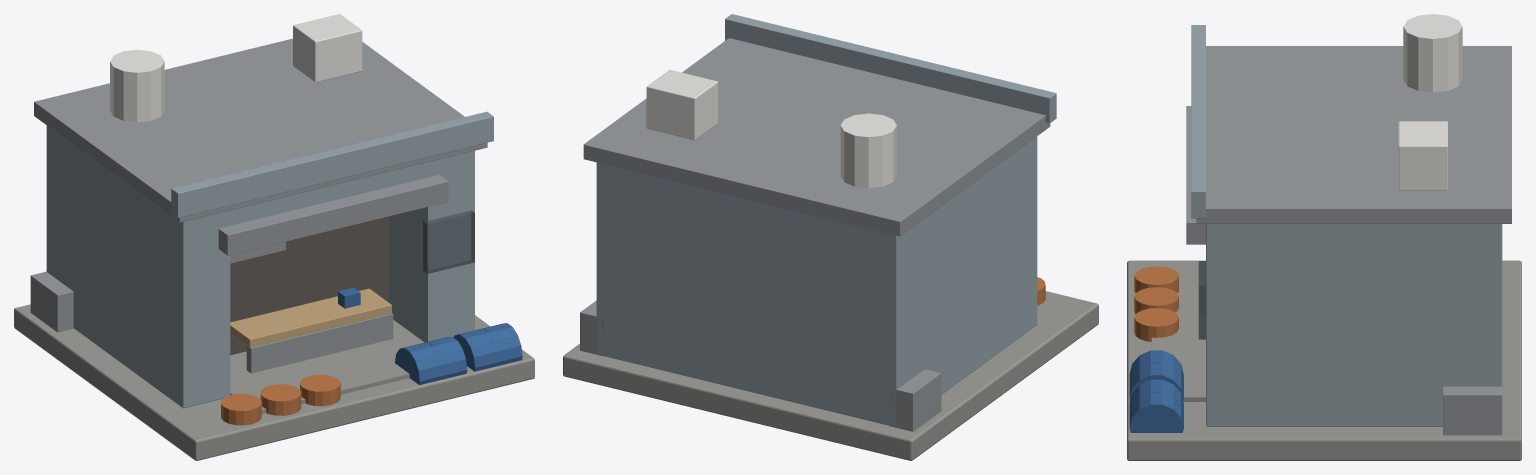
The model's file is bobinaj.glb.
3 renders of one model, left to right at view 1: azimuth 30°, elevation 25°; view 2: azimuth 150°, elevation 25°; view 3: azimuth 270°, elevation 25°, orthographic. The views are drawn at different scales.
Visible parts, largest first — view 1: P; view 2: P; view 3: P.
Part boxes in pixels (x1=…): P: x1=14, y1=14, x2=534, y2=460; P: x1=563, y1=14, x2=1098, y2=460; P: x1=1127, y1=14, x2=1521, y2=460.
Size of the model in its own units: 1 by 0.782 by 0.9302.
